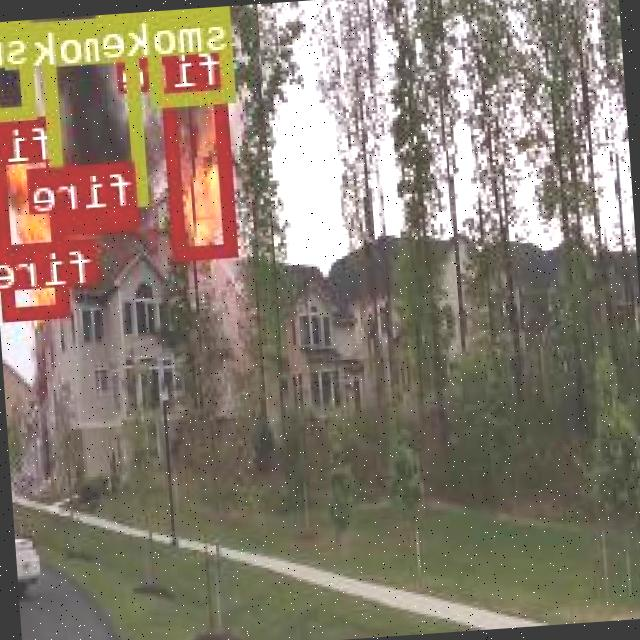fire: (0, 113, 72, 317), (163, 85, 240, 257), (57, 206, 141, 232), (72, 236, 98, 264)
smoke: (44, 12, 150, 209), (147, 6, 236, 102), (0, 19, 39, 116)
